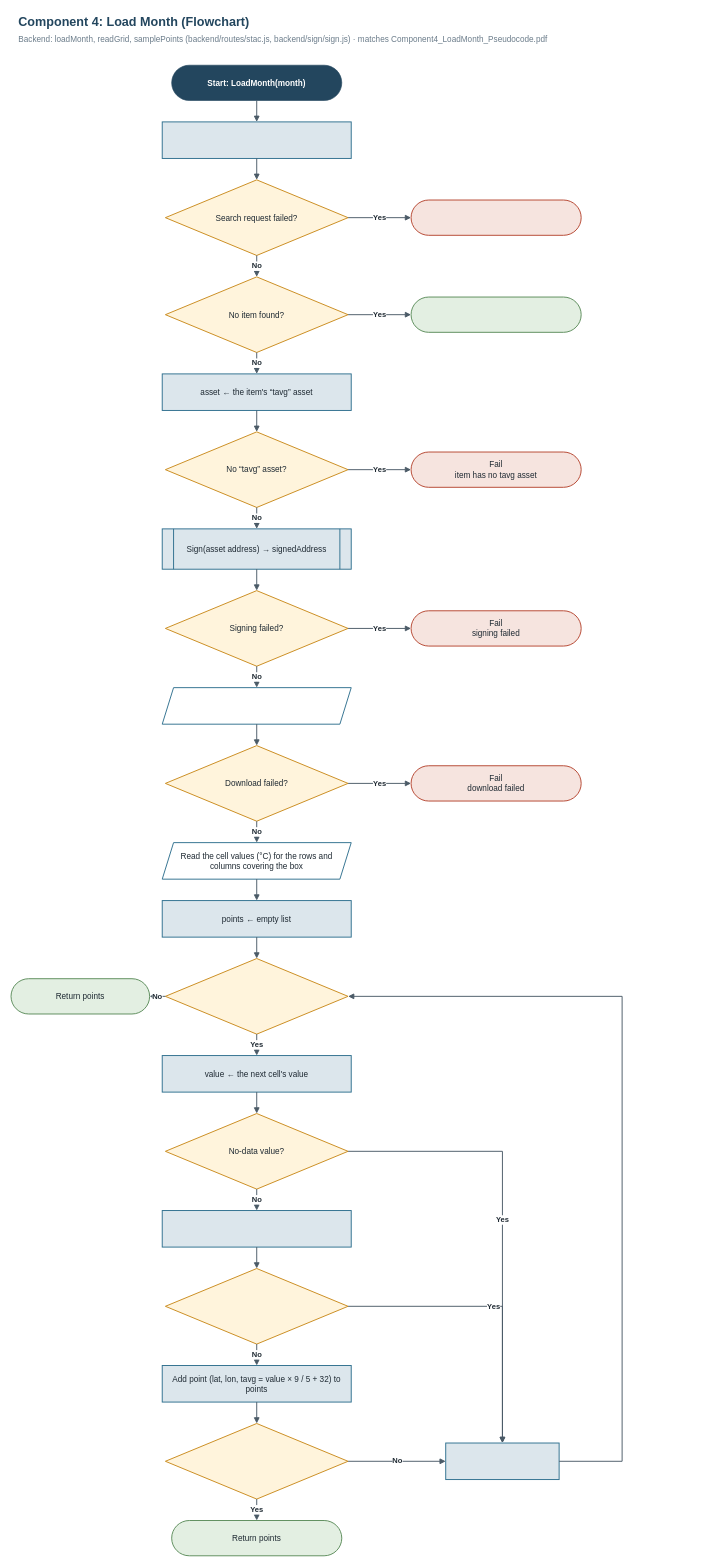
Some shapes in this 721 by 1567 pixel diagram are drawn without their labels. The shapes that lost their labels are listed below. From the top down, each one's box as (x1, y1, x2, y2) in pixels, then its label:
(161, 121, 351, 159): Search the catalog: noaa-nclimgrid-monthly, West Virginia box, 15th of month
(410, 199, 581, 235): Fail catalog search failed
(410, 296, 581, 333): Return NONE
(161, 687, 351, 724): Download the file at signedAddress
(165, 958, 348, 1034): More cells? (row by row)
(161, 1210, 351, 1247): (lon, lat) ← center of the cell
(165, 1268, 348, 1344): Center outside the box?
(165, 1423, 348, 1499): points holds 10,000?
(445, 1442, 559, 1480): Next cell
